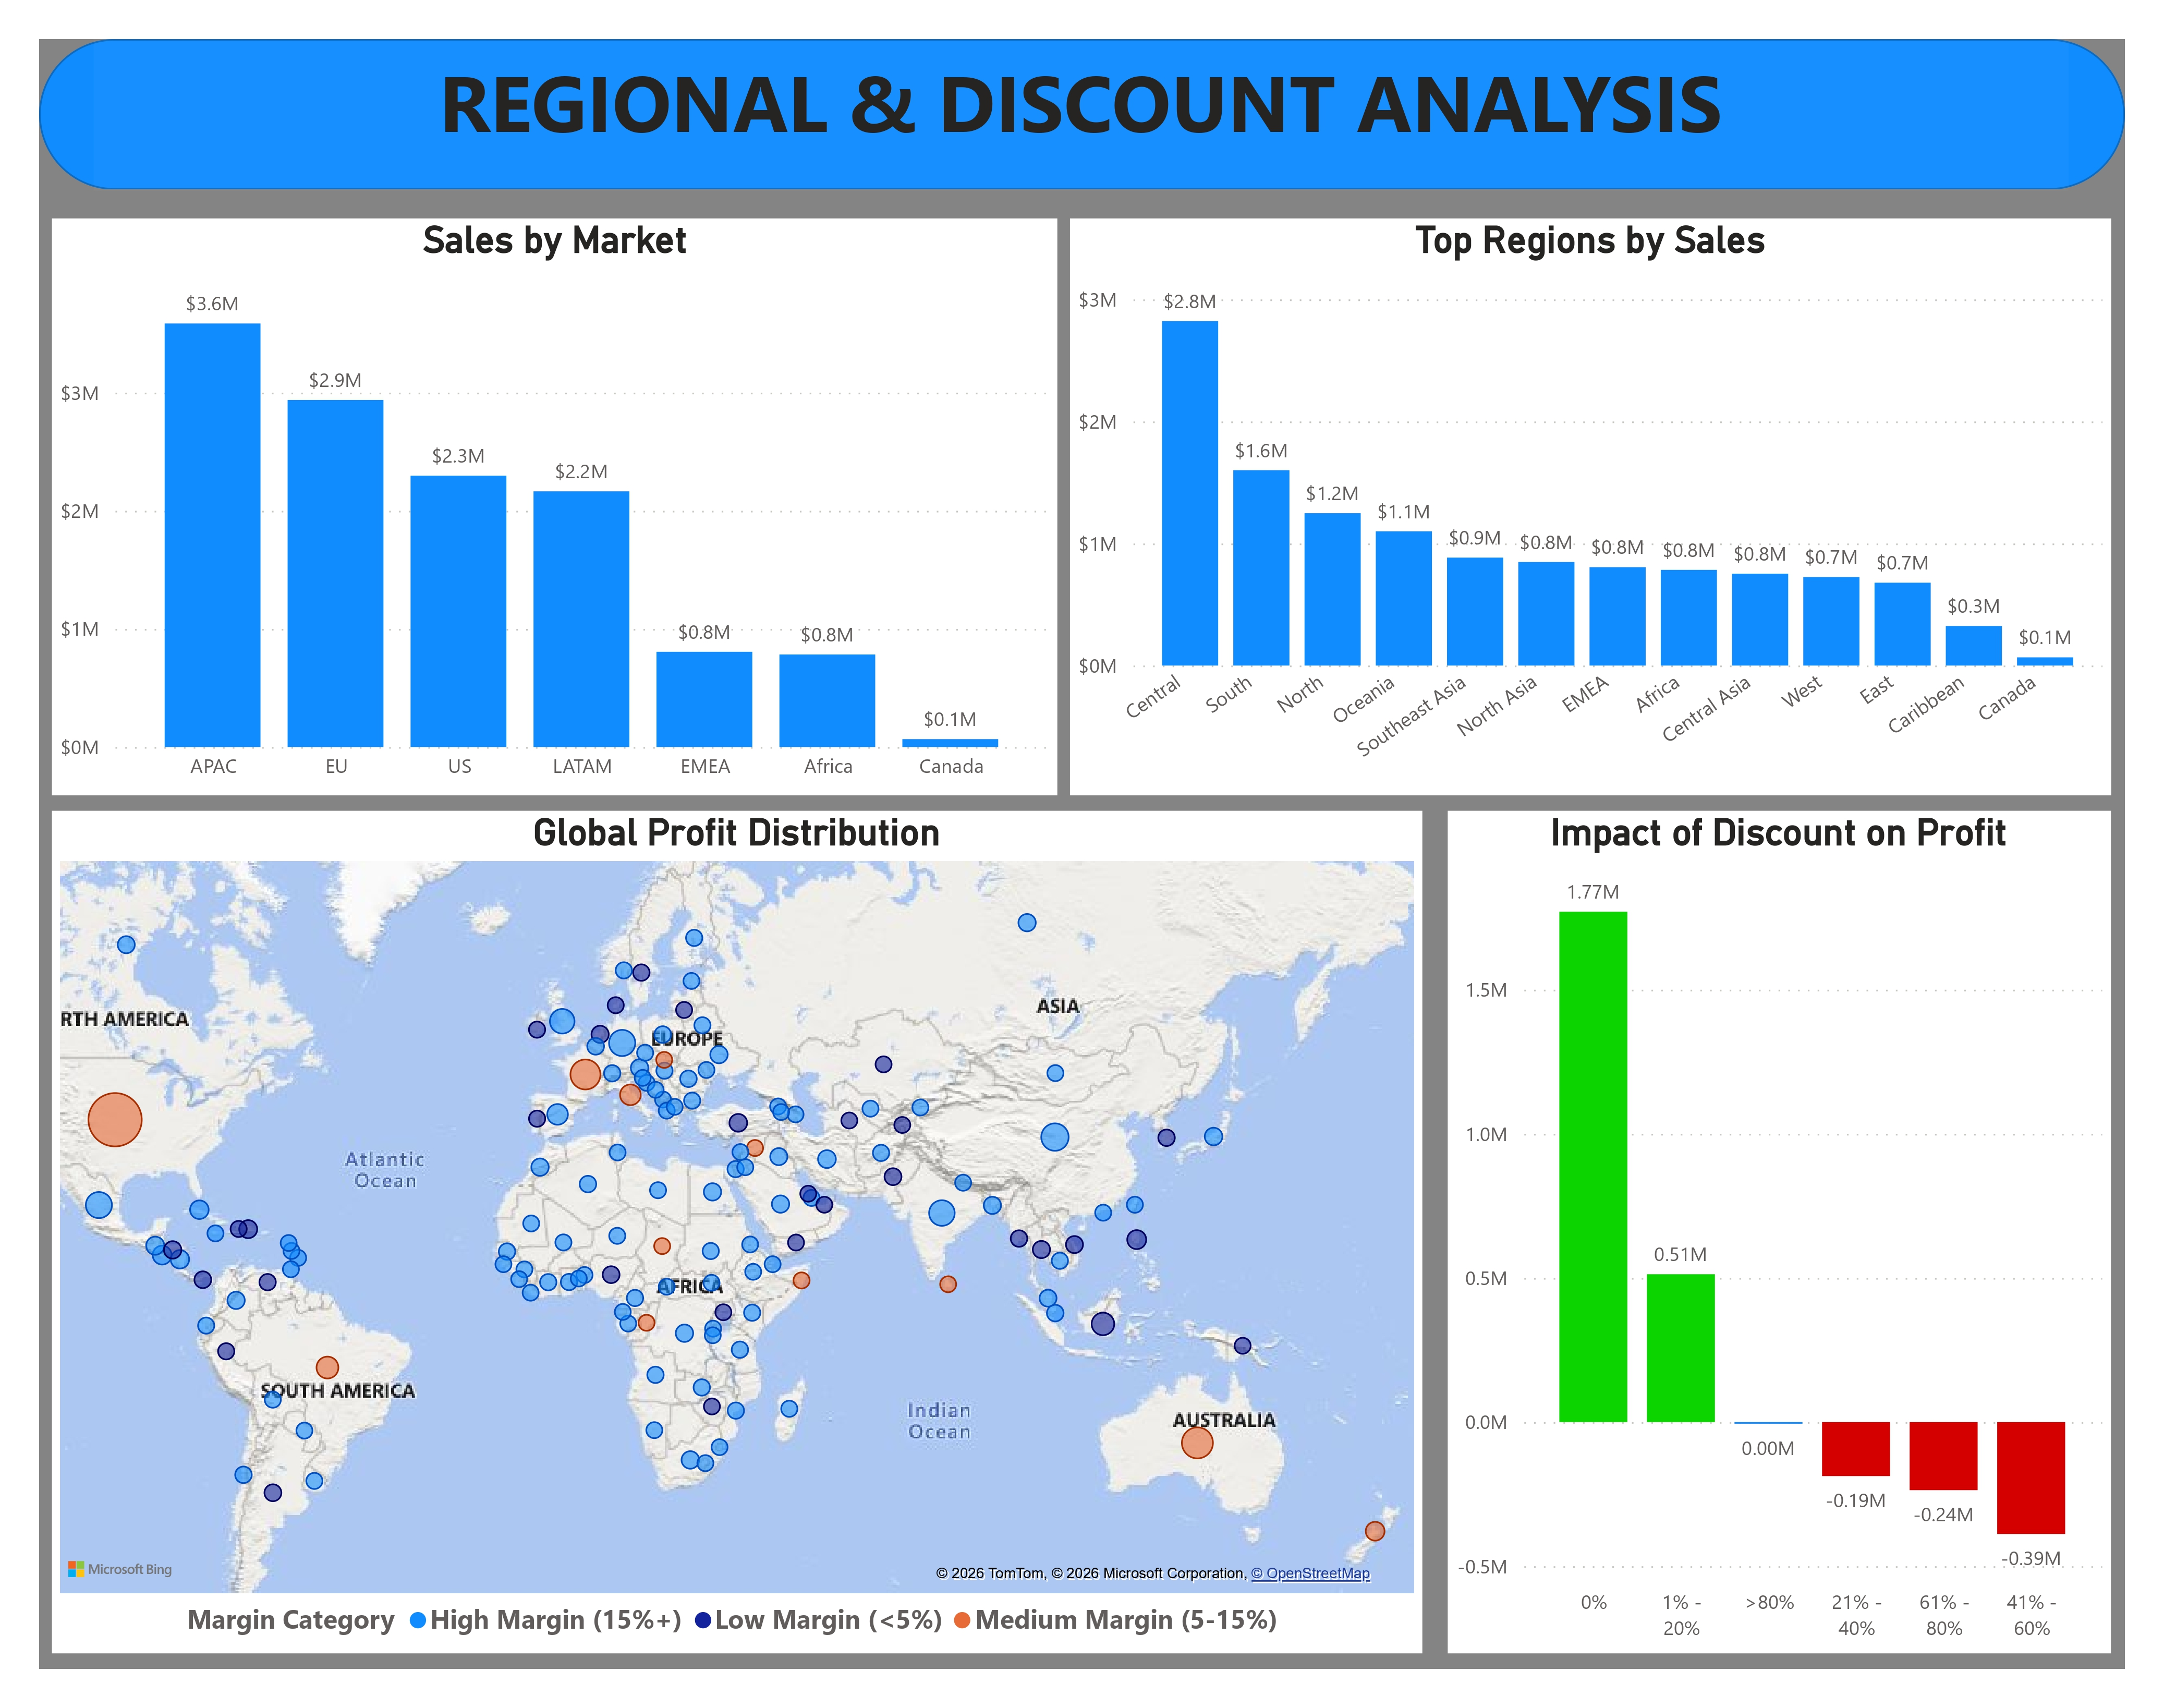

Layout of this report page (visuals, bound fields, positions):
{"tool":"powerbi","page":{"name":"Regional","canvas":[1280,1000],"ordinal":2},"visuals":[{"type":"shape","box":[0,0,1280,92.4],"z":0},{"type":"textbox","box":[33.9,0,1211.6,93.4],"z":1000},{"type":"clusteredColumnChart","title":"Sales by Market","fields":{"Category":["global-superstore-clean.year Hierarchy.market"],"Y":["Sum(global-superstore-clean.sales)"]},"box":[8.5,110.3,617.4,354.3],"z":2000},{"type":"clusteredColumnChart","title":"Top Regions by Sales","fields":{"Y":["Sum(global-superstore-clean.sales)"],"Category":["global-superstore-clean.region"]},"box":[632.3,110.3,638.7,354.3],"z":3000},{"type":"map","title":"Global Profit Distribution","fields":{"Category":["global-superstore-clean.country"],"Size":["Sum(global-superstore-clean.Sales)"],"Series":["global-superstore-clean.Margin Category"]},"box":[7.9,473.5,840.9,516.7],"z":4000},{"type":"clusteredColumnChart","title":"Impact of Discount on Profit","fields":{"Category":["global-superstore-clean.Discount Bucket"],"Y":["global-superstore-clean.Average Profit"]},"box":[864.4,473.5,406.7,516.7],"z":5000}]}

Visuals, with their boxes on the page's 1280x1000 design canvas (x1, y1, x2, y2). These are canvas units, not pixel positions in the 2164x1708 screenshot, which may show the page scaled, cropped or inside an application window:
shape: [0,0,1280,92]
textbox: [34,0,1246,93]
"Sales by Market" clusteredColumnChart: [8,110,626,465]
"Top Regions by Sales" clusteredColumnChart: [632,110,1271,465]
"Global Profit Distribution" map: [8,474,849,990]
"Impact of Discount on Profit" clusteredColumnChart: [864,474,1271,990]
